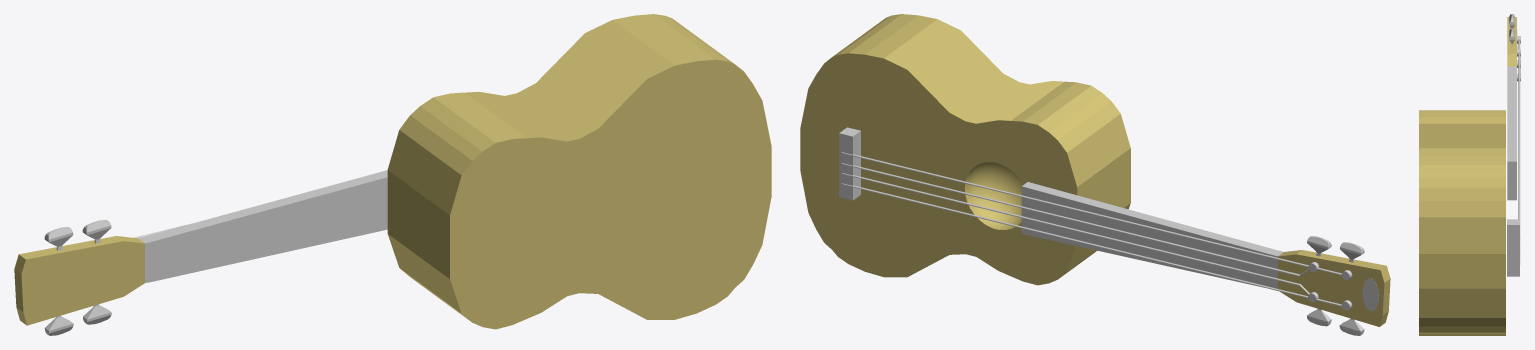
The model's file is guitar_b0bba8e9.glb.
3 views of the same model, side by side, from view 1: azimuth 30°, elevation 25°; view 2: azimuth 150°, elevation 25°; view 3: azimuth 270°, elevation 25° (orthographic). The views are drawn at different scales.
Parts seen in each view (by area): view 1: Object_7, Object_4, Object_6; view 2: Object_7, Object_4, Object_5, Object_6; view 3: Object_7, Object_4, Object_5, Object_6.
Boxes of the visible parts, x1=… form: Object_7: x1=14, y1=14, x2=771, y2=329; Object_4: x1=144, y1=170, x2=387, y2=282; Object_6: x1=44, y1=220, x2=111, y2=335; Object_7: x1=800, y1=14, x2=1390, y2=326; Object_4: x1=839, y1=127, x2=1378, y2=311; Object_5: x1=841, y1=152, x2=1341, y2=306; Object_6: x1=1307, y1=236, x2=1364, y2=335; Object_7: x1=1419, y1=17, x2=1516, y2=335; Object_4: x1=1507, y1=29, x2=1519, y2=276; Object_5: x1=1507, y1=41, x2=1520, y2=264; Object_6: x1=1509, y1=14, x2=1520, y2=81.
Size of the model in its own units: 3.22 by 1.14 by 0.5941.
